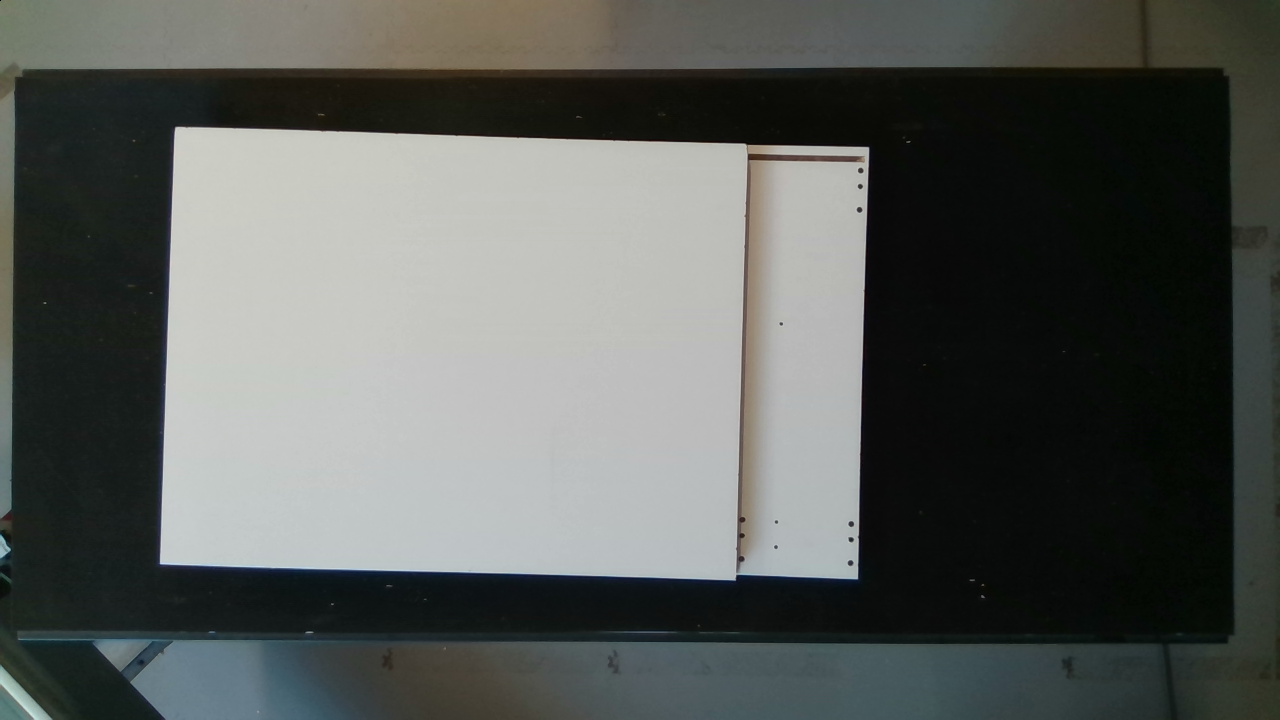part2: (152, 111, 756, 595)
